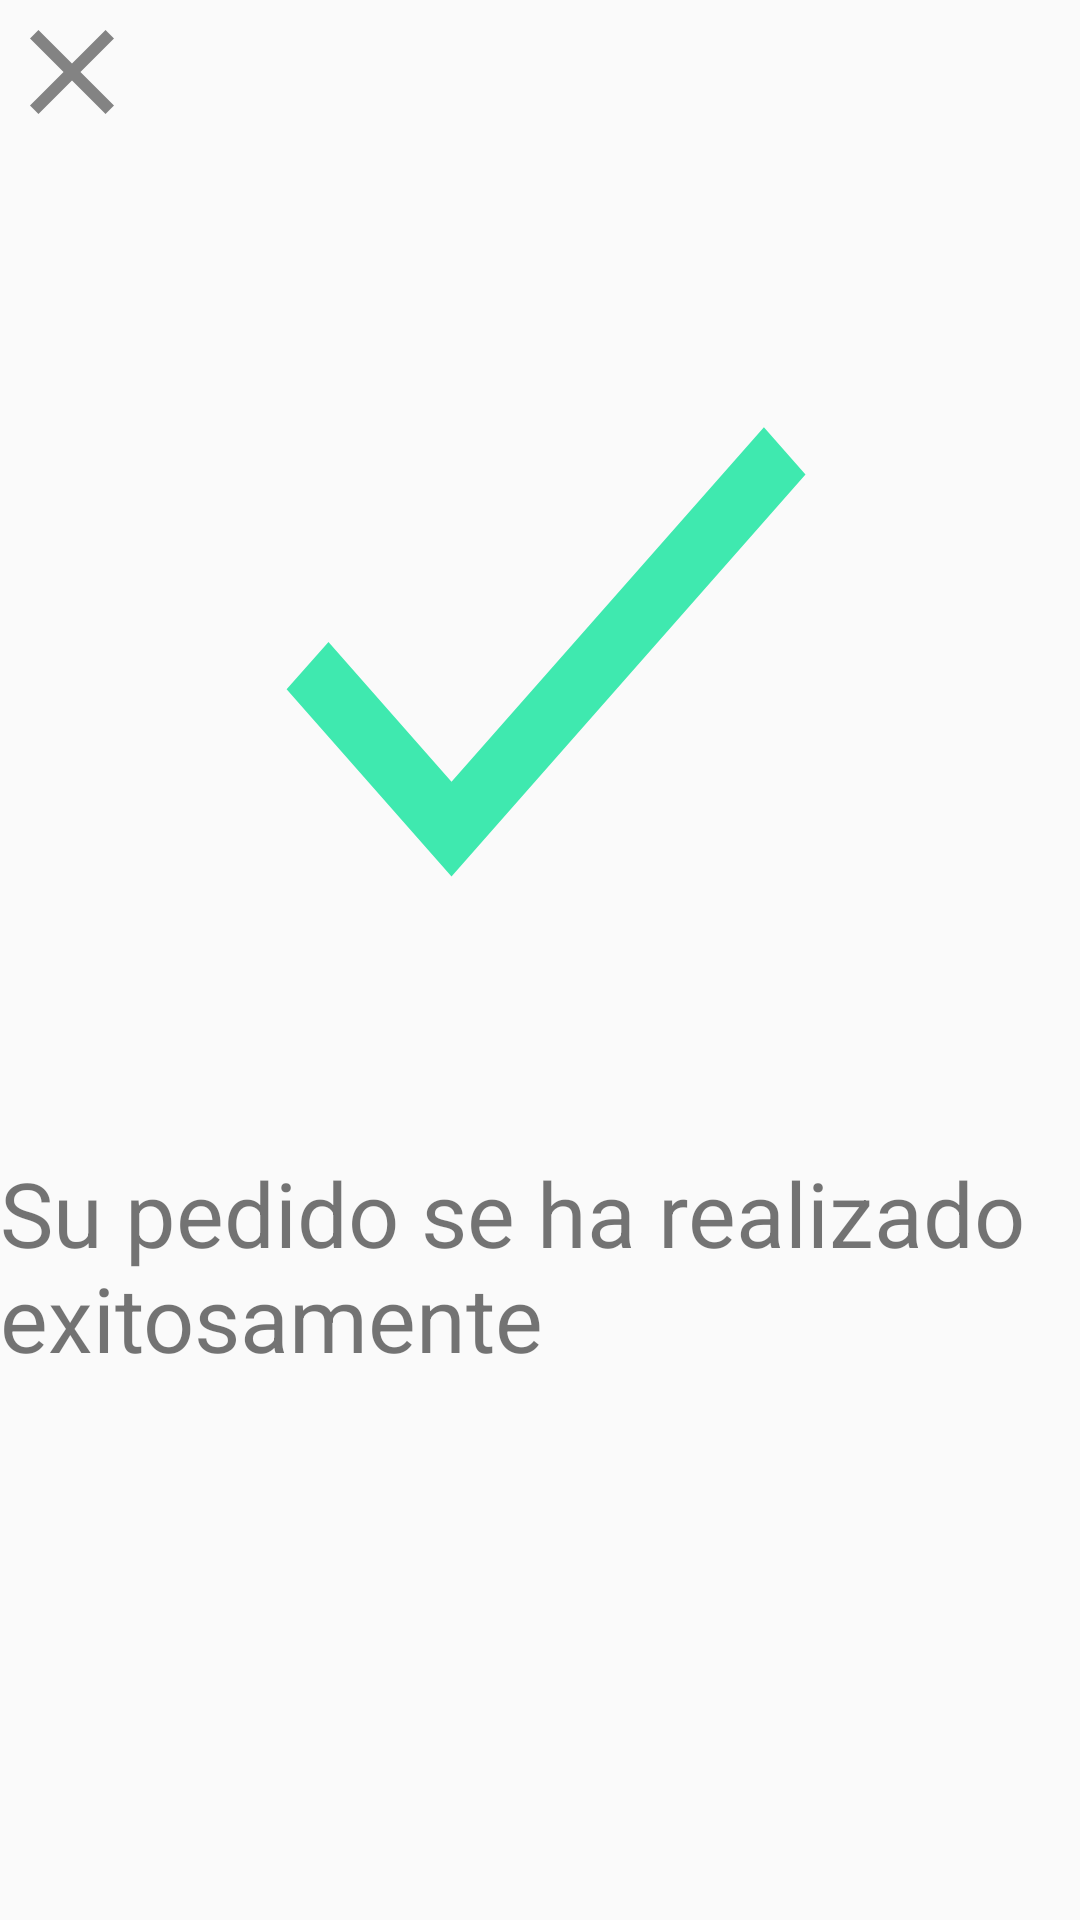

Icon click points for this 1080 × 1920 phone screenshot, format (x=x, y=y):
close: (x=72, y=72)
